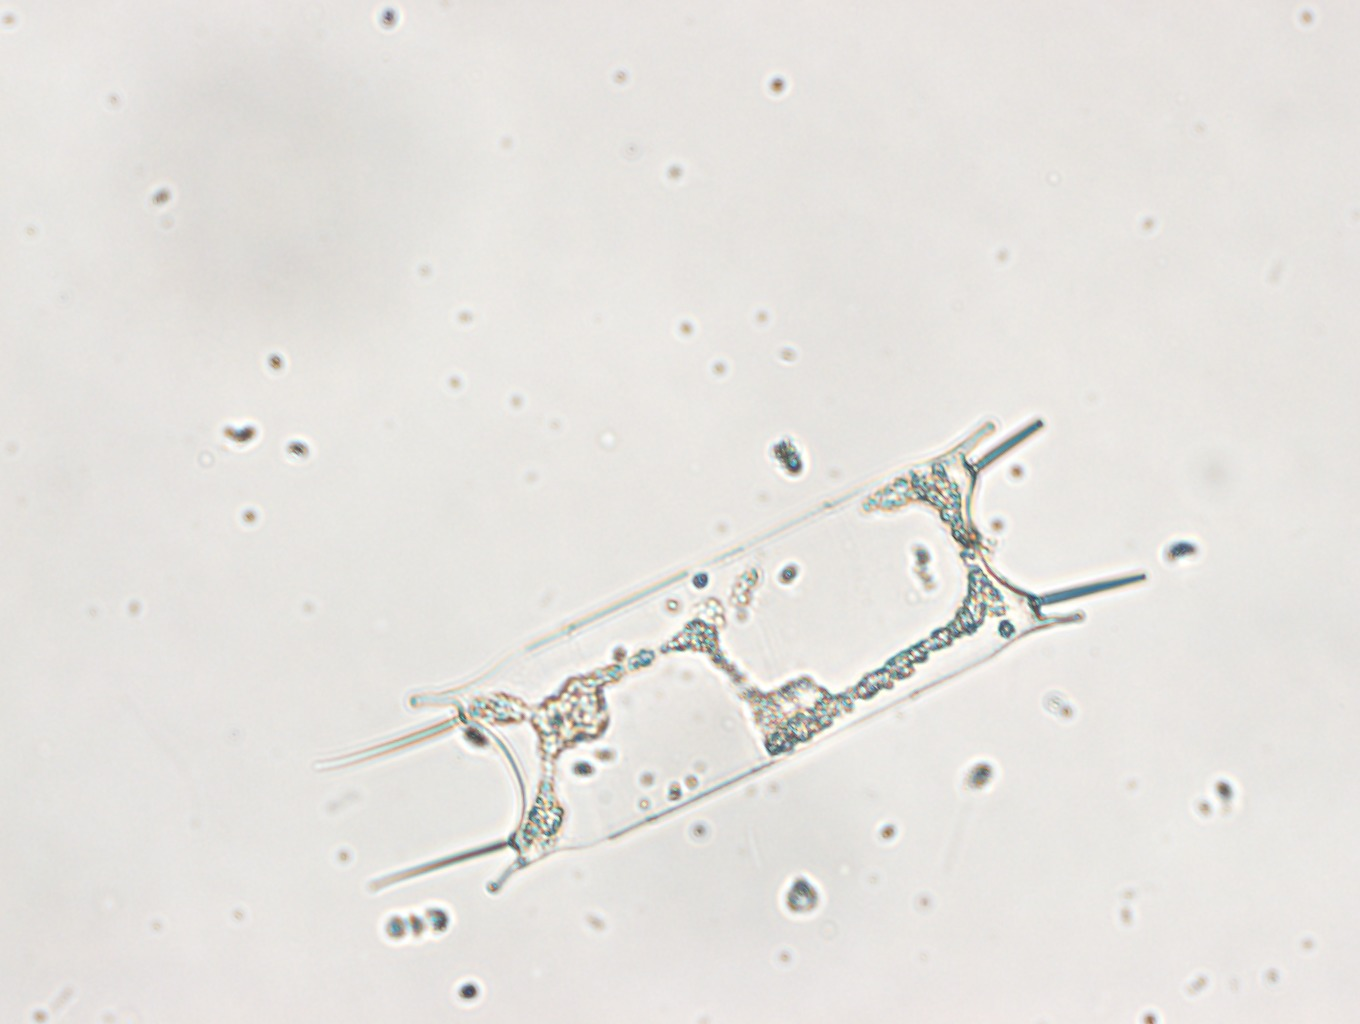biddulphia: (309, 399, 1162, 914)
